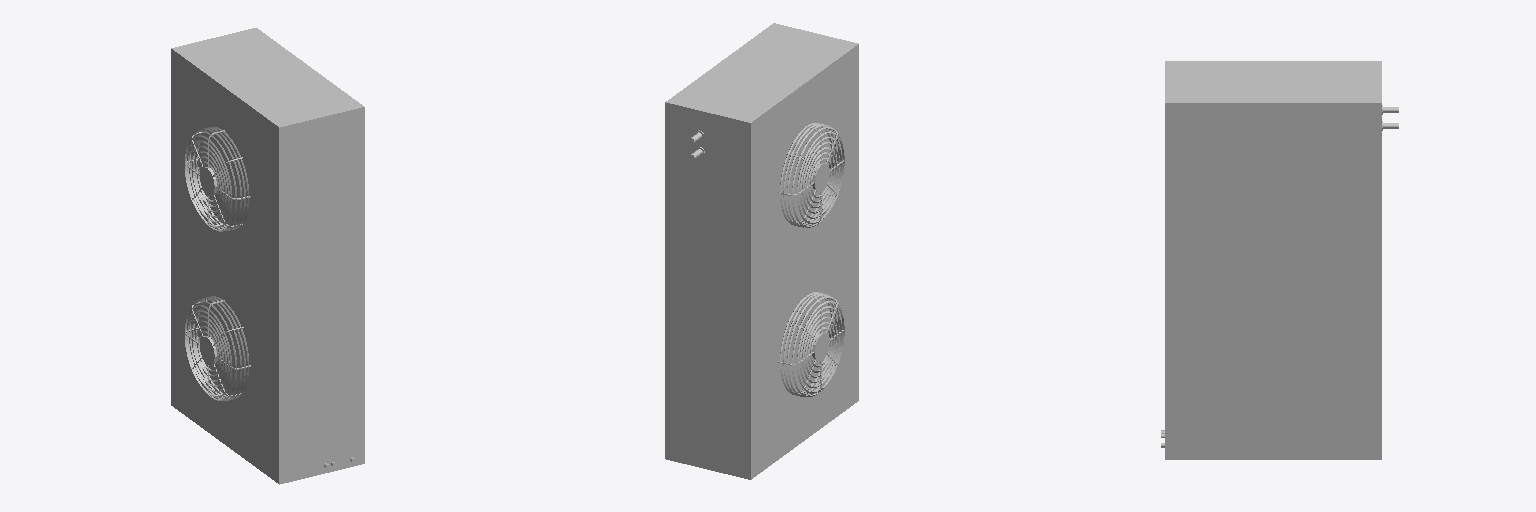
File: 空调外机立式.obj
The picture shows the model from 3 angles: view 1: azimuth 30°, elevation 25°; view 2: azimuth 150°, elevation 25°; view 3: azimuth 270°, elevation 25°; orthographic projection.
Visible parts, largest first — view 1: Box002; view 2: Box002; view 3: Box002.
Boxes of the visible parts, x1=… form: Box002: x1=171, y1=28, x2=364, y2=484; Box002: x1=665, y1=23, x2=858, y2=479; Box002: x1=1165, y1=61, x2=1381, y2=459.
Bounding box in the file's own units: 604 × 2000 × 1208.